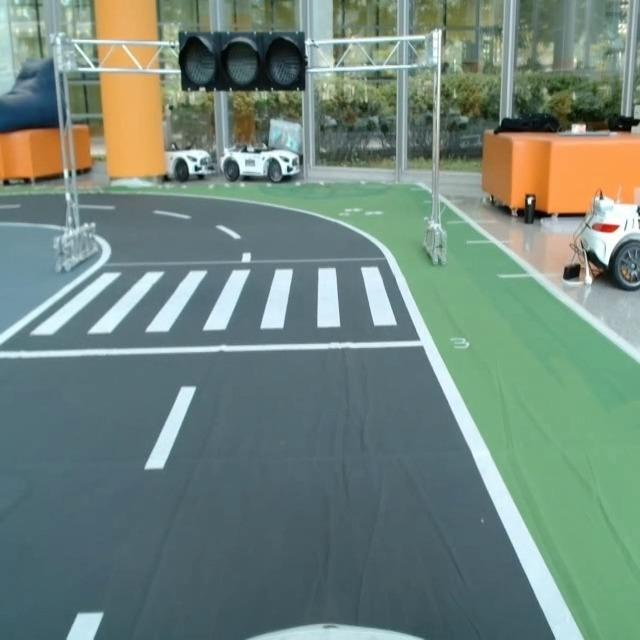traffic-light: (174, 23, 312, 96)
